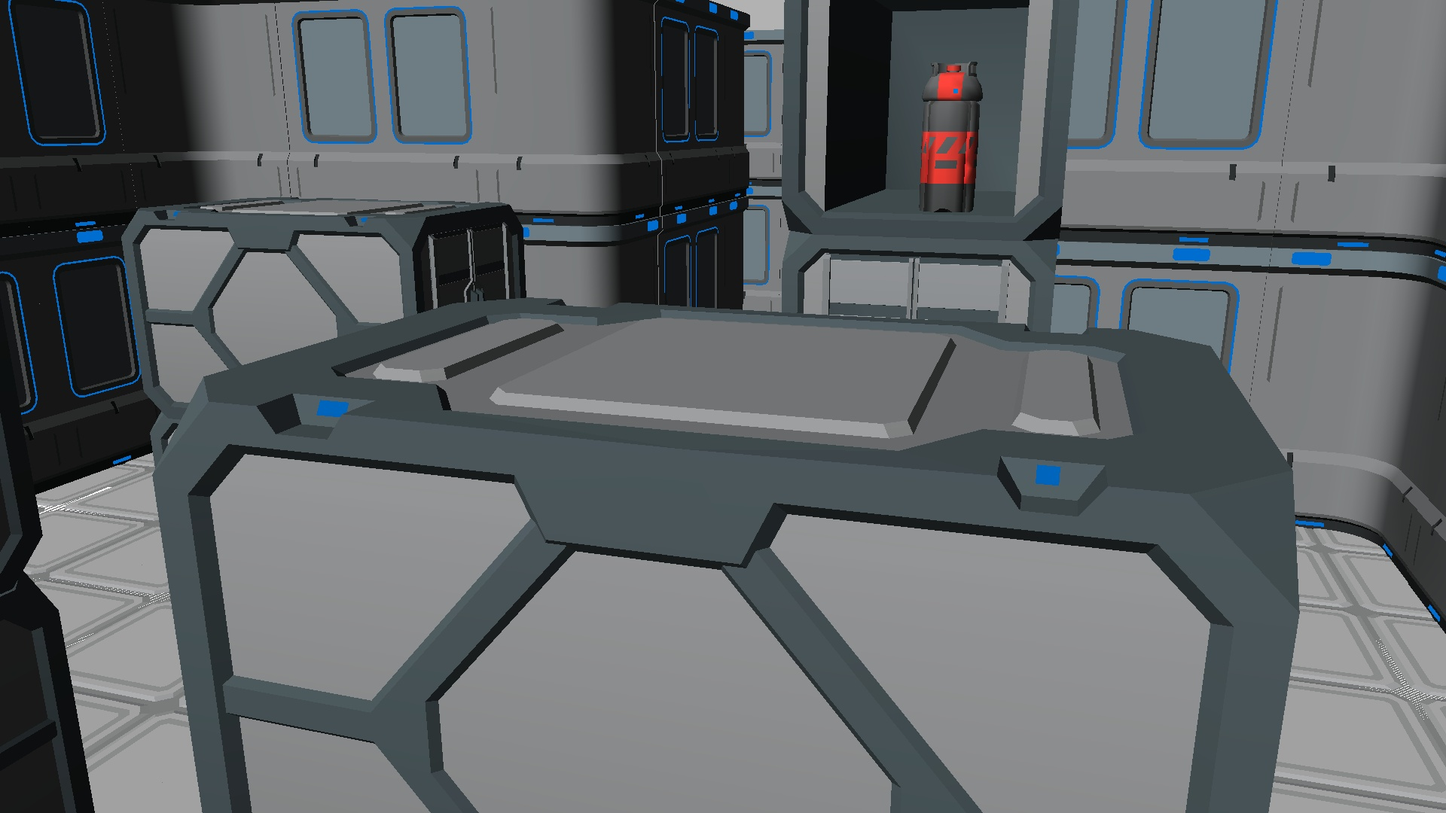red barrel: (919, 61, 983, 213)
